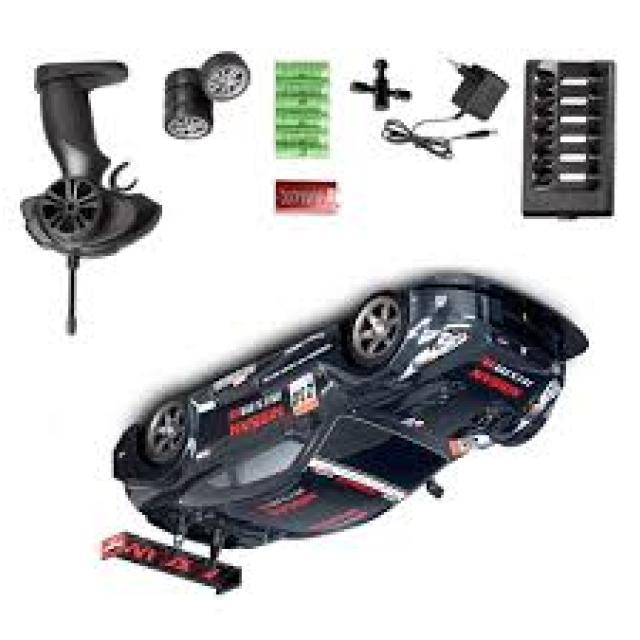Car: (102, 279, 572, 597)
